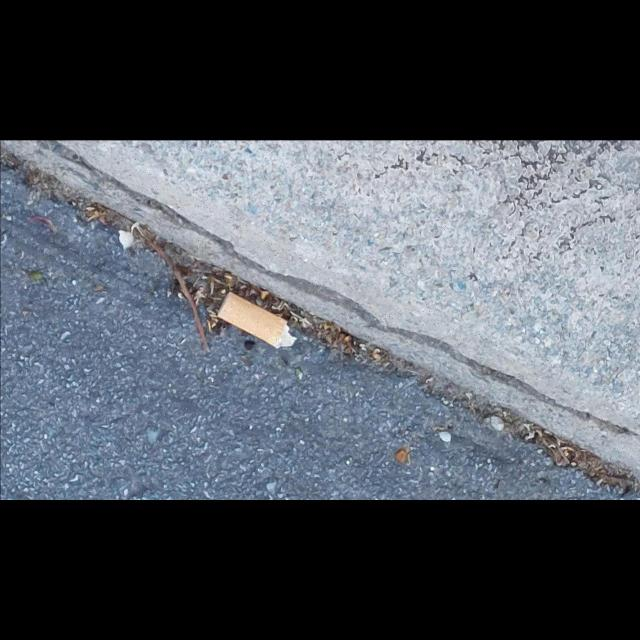cigarette: (217, 291, 297, 350)
